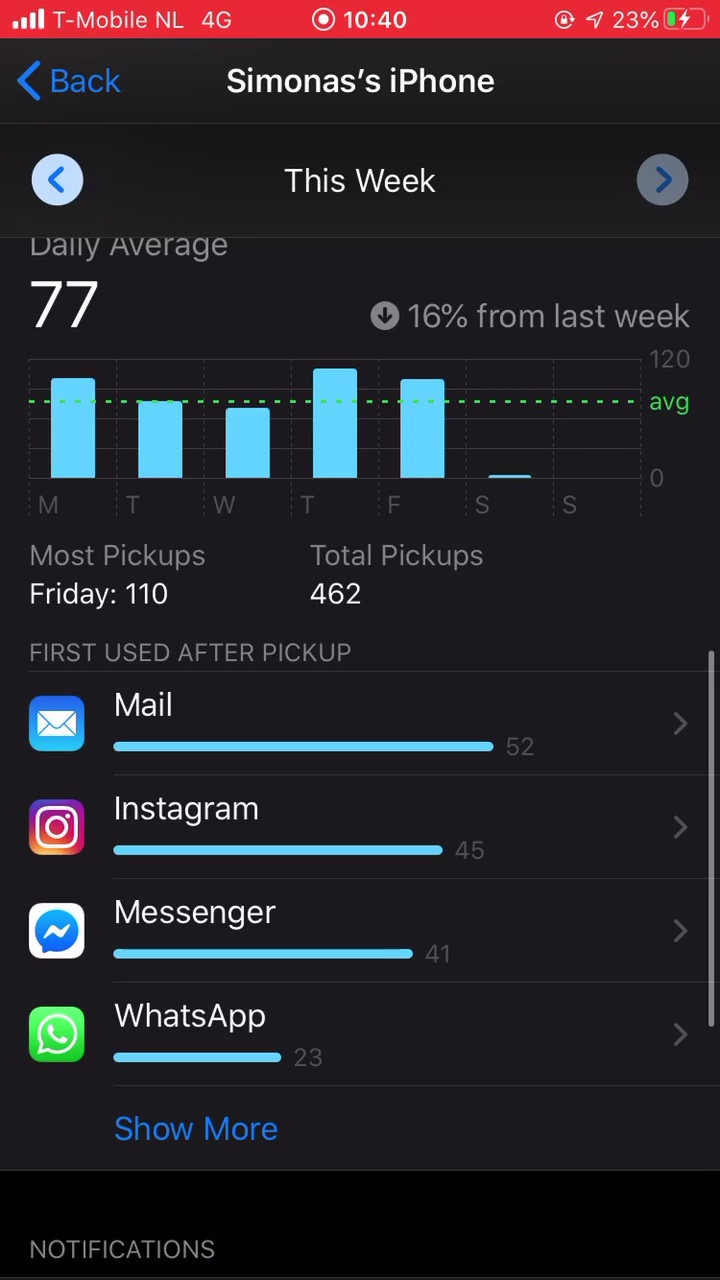pick_app: (21, 688, 523, 775), (23, 794, 478, 877), (17, 892, 456, 975), (23, 991, 329, 1082)
pick_over: (25, 530, 509, 624)
week: (268, 152, 448, 207)
